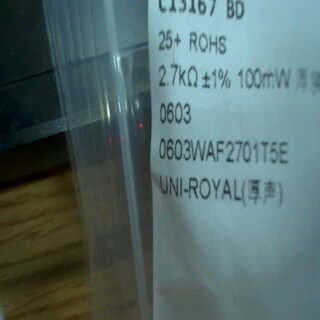2.7kR: (154, 59, 201, 96)
